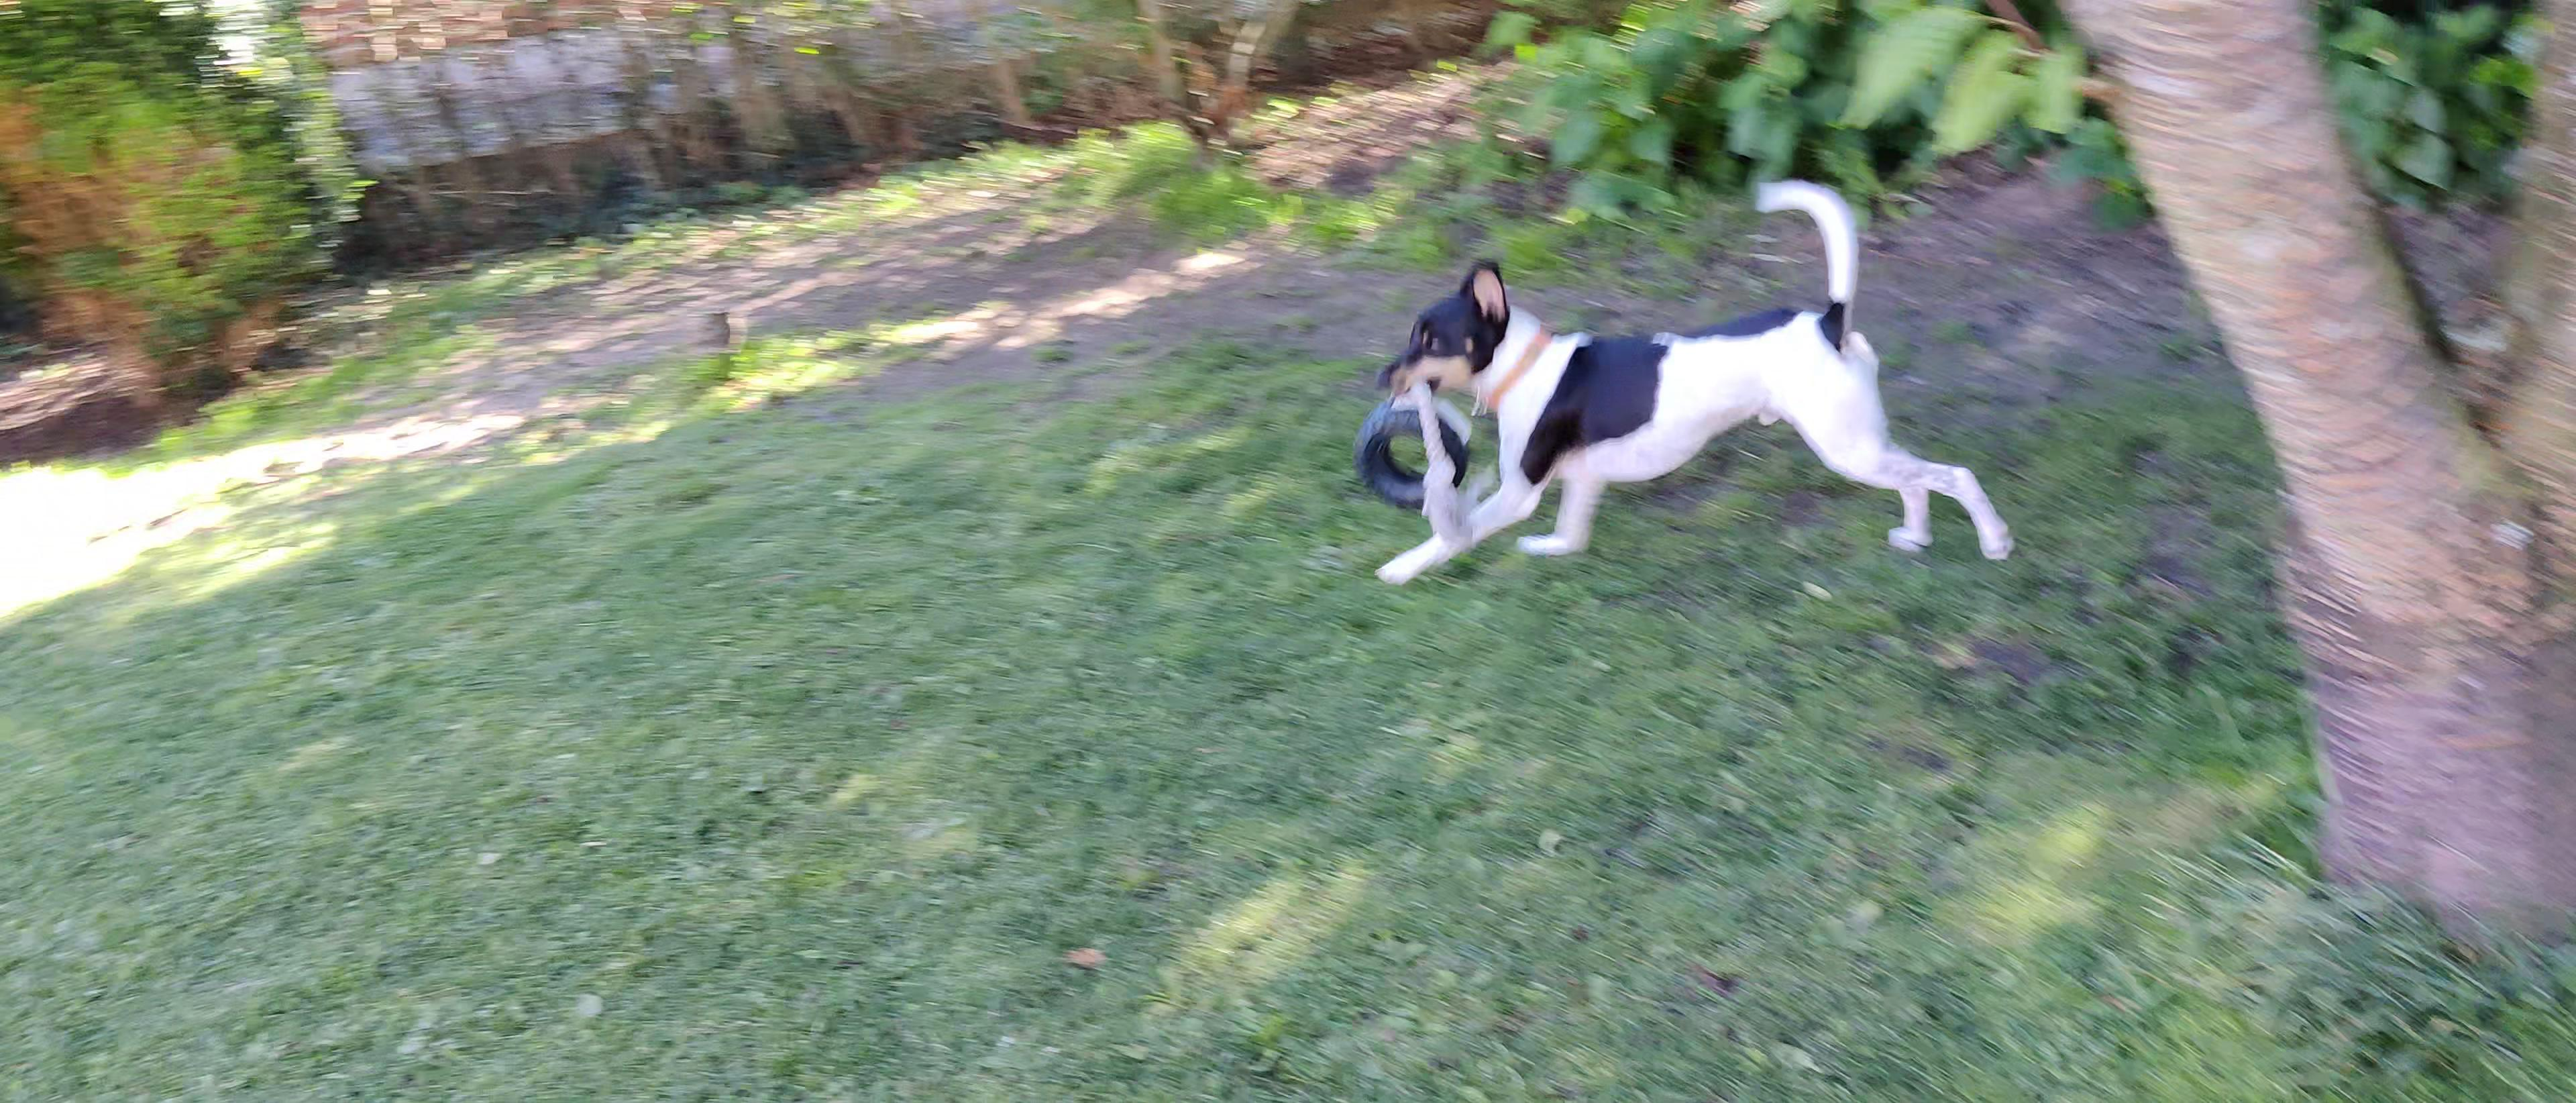Dog: (1342, 156, 2040, 600)
